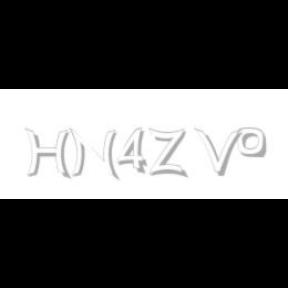4: (116, 128, 148, 174)
H: (25, 128, 71, 180)
N: (68, 128, 118, 180)
V: (194, 128, 242, 176)
Z: (148, 128, 186, 178)
o: (236, 128, 266, 158)
